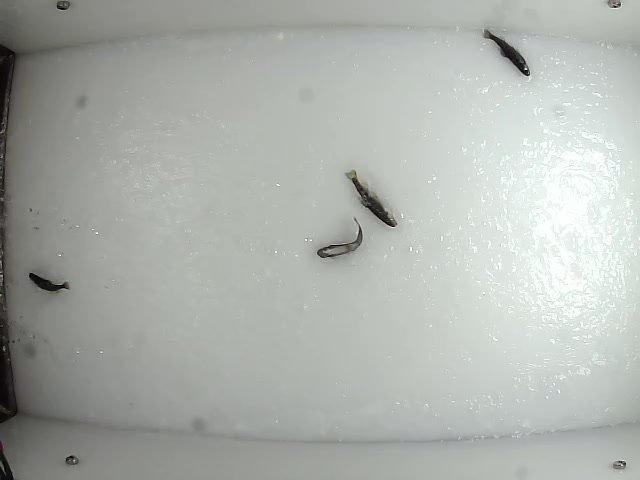fish: (342, 169, 397, 229), (481, 28, 532, 79), (315, 215, 364, 259), (27, 268, 71, 293)
